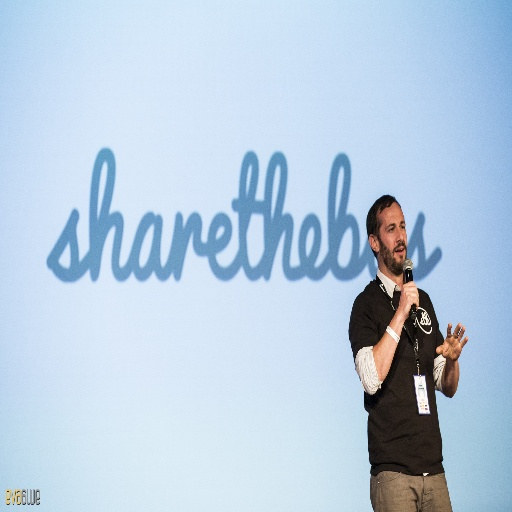hand: (441, 330, 470, 400), (399, 280, 420, 320)
